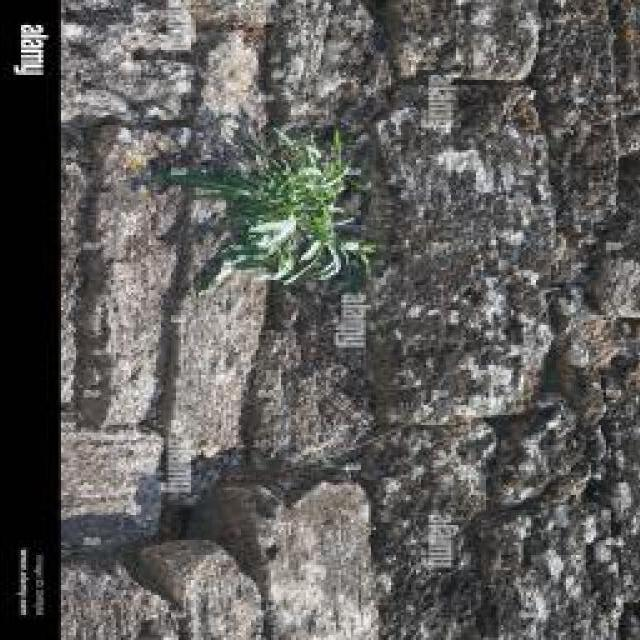crack: (61, 0, 638, 638), (63, 1, 272, 155)
dampens: (66, 167, 278, 496)
vegetation: (151, 121, 377, 298), (380, 75, 552, 266), (433, 2, 543, 86)
